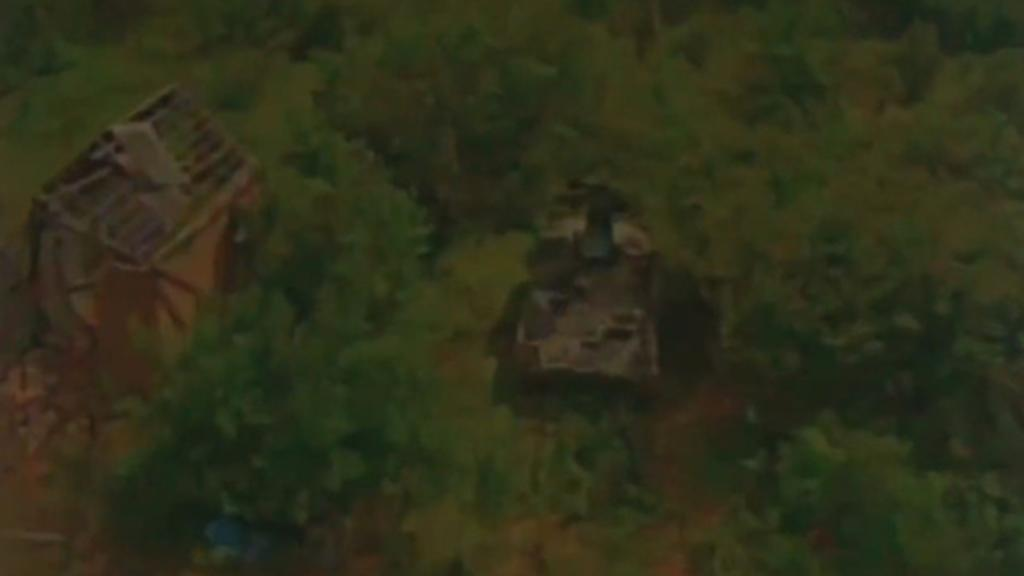MLRS: (492, 174, 678, 402)
